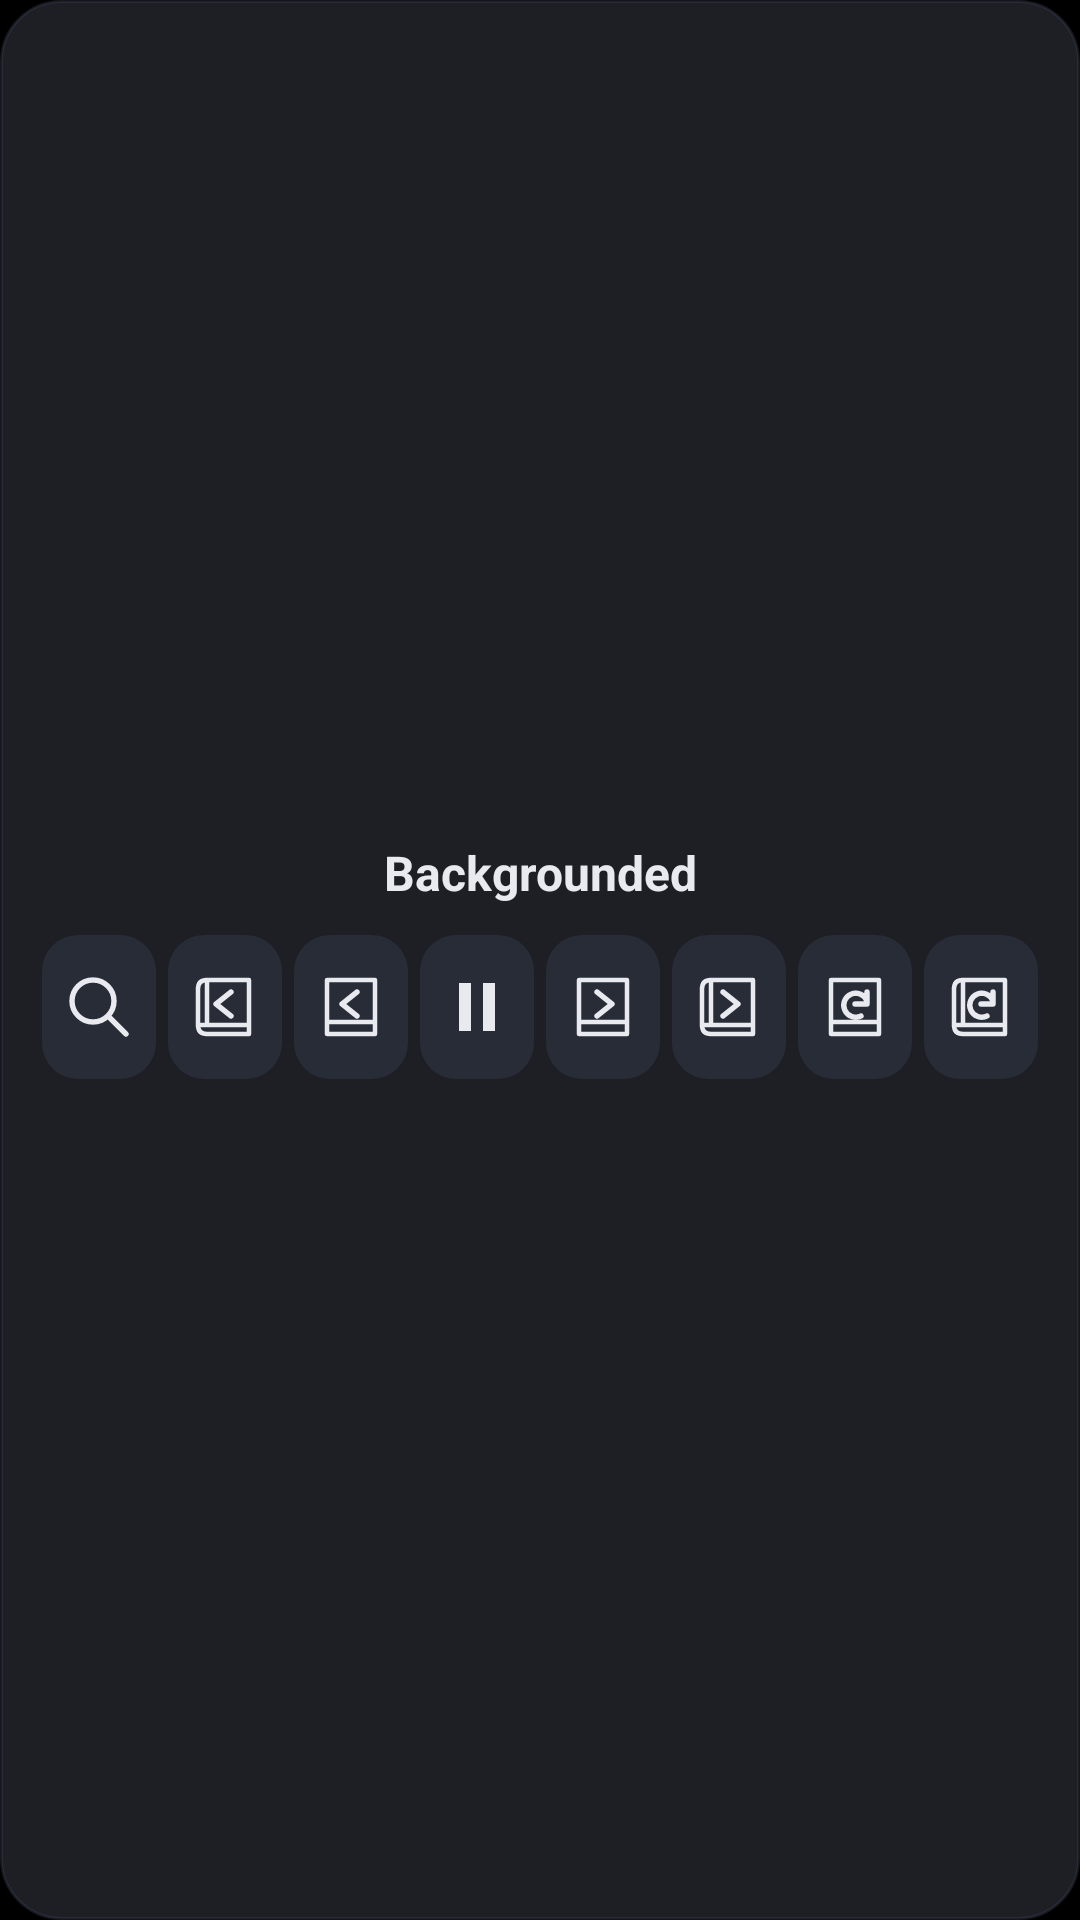

Named icons in this screenshot (1080*1920) and their bounding boxes, (left=x1, top=y1, right=x2, bottom=y2):
Next album: (left=699, top=977, right=756, bottom=1037)
Next image: (left=576, top=977, right=630, bottom=1037)
Pause: (left=459, top=983, right=495, bottom=1031)
Previous album: (left=195, top=977, right=252, bottom=1037)
Previous image: (left=324, top=977, right=378, bottom=1037)
Random album: (left=951, top=977, right=1008, bottom=1037)
Random image: (left=828, top=977, right=882, bottom=1037)
